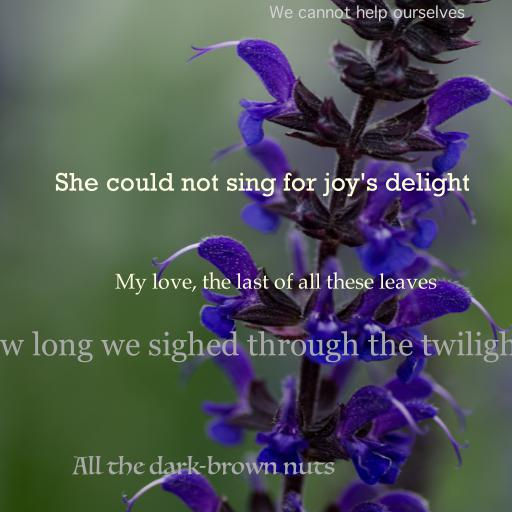Geneva: (269, 5, 465, 22)
Georgia: (0, 331, 512, 363)
Luminari: (73, 455, 335, 476)
Palatino: (115, 272, 437, 295)
Rockwell: (54, 172, 470, 197)
